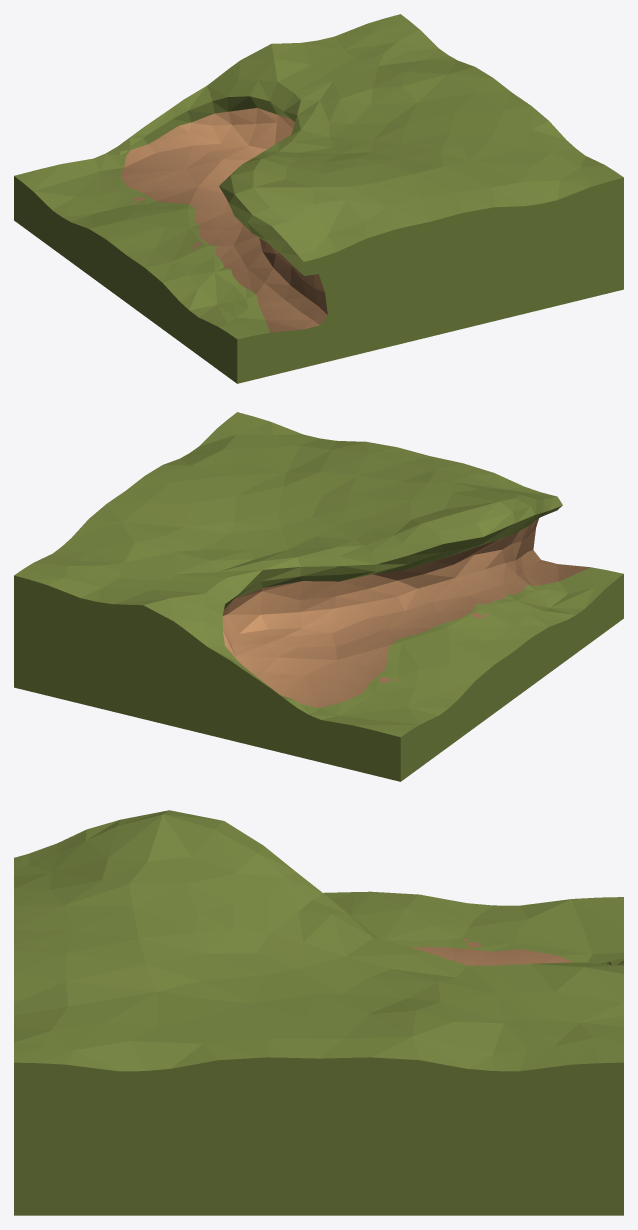
Rendered from Terrian_CliffGrass_Flat_RampCap-02.fbx.
3 views of the same model, one above another, from view 1: azimuth 30°, elevation 25°; view 2: azimuth 150°, elevation 25°; view 3: azimuth 270°, elevation 25° (orthographic). The views are drawn at different scales.
Parts seen in each view (by area): view 1: Terrian_CliffGrass_Flat_RampCap-02; view 2: Terrian_CliffGrass_Flat_RampCap-02; view 3: Terrian_CliffGrass_Flat_RampCap-02.
Boxes of the visible parts, x1=… form: Terrian_CliffGrass_Flat_RampCap-02: x1=14, y1=14, x2=623, y2=383; Terrian_CliffGrass_Flat_RampCap-02: x1=14, y1=412, x2=623, y2=781; Terrian_CliffGrass_Flat_RampCap-02: x1=14, y1=810, x2=623, y2=1215.
Bounding box in the file's own units: 3600 × 1241 × 3600.
1 material, 1 textured.
